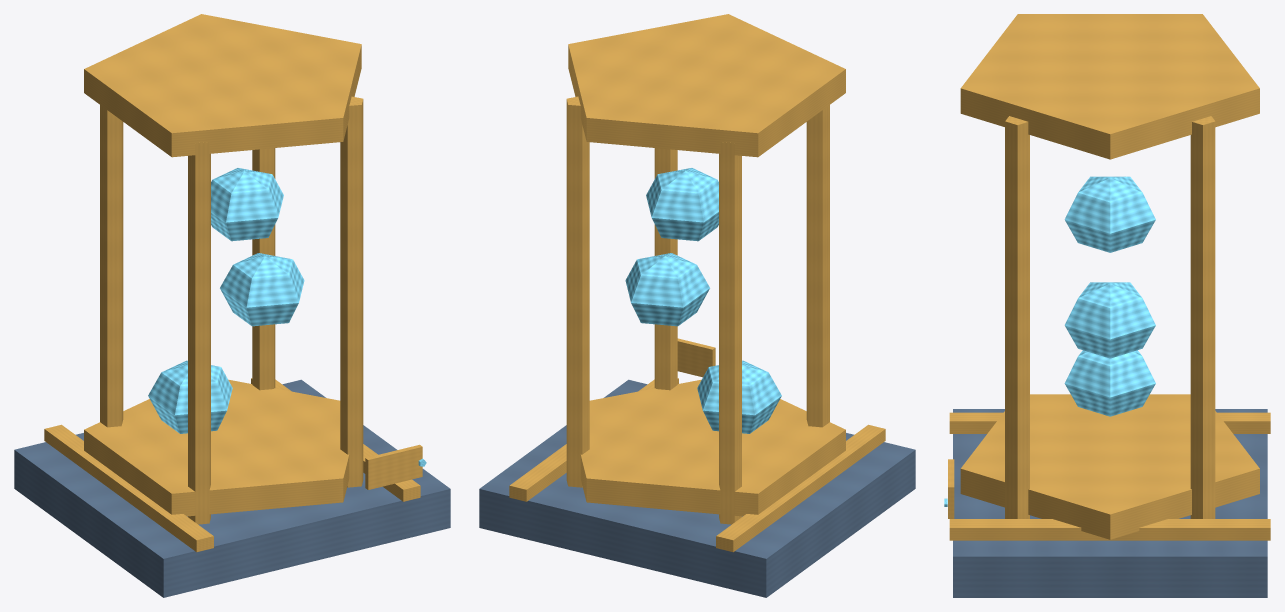
Rendered from atlas100-s051-a01.lod1.glb.
3 renders of one model, left to right at view 1: azimuth 30°, elevation 25°; view 2: azimuth 150°, elevation 25°; view 3: azimuth 270°, elevation 25°, orthographic. The views are drawn at different scales.
Parts seen in each view (by area): view 1: atlas100-s051-a01:part-004, atlas100-s051-a01:part-000, atlas100-s051-a01:part-003, atlas100-s051-a01:part-005, atlas100-s051-a01:part-007, atlas100-s051-a01:part-009, atlas100-s051-a01:part-014, atlas100-s051-a01:part-015, atlas100-s051-a01:part-001, atlas100-s051-a01:part-013, atlas100-s051-a01:part-011, atlas100-s051-a01:part-016 (+1 smaller); view 2: atlas100-s051-a01:part-004, atlas100-s051-a01:part-000, atlas100-s051-a01:part-003, atlas100-s051-a01:part-011, atlas100-s051-a01:part-009, atlas100-s051-a01:part-007, atlas100-s051-a01:part-014, atlas100-s051-a01:part-015, atlas100-s051-a01:part-001, atlas100-s051-a01:part-013, atlas100-s051-a01:part-005, atlas100-s051-a01:part-002 (+1 smaller); view 3: atlas100-s051-a01:part-004, atlas100-s051-a01:part-003, atlas100-s051-a01:part-000, atlas100-s051-a01:part-011, atlas100-s051-a01:part-005, atlas100-s051-a01:part-002, atlas100-s051-a01:part-015, atlas100-s051-a01:part-014, atlas100-s051-a01:part-013, atlas100-s051-a01:part-001.
Part boxes in pixels (left/top/right/bottom): atlas100-s051-a01:part-004: left=84, top=14, right=361, bottom=157; atlas100-s051-a01:part-000: left=14, top=379, right=450, bottom=597; atlas100-s051-a01:part-003: left=84, top=379, right=349, bottom=516; atlas100-s051-a01:part-005: left=340, top=96, right=363, bottom=487; atlas100-s051-a01:part-007: left=188, top=142, right=210, bottom=524; atlas100-s051-a01:part-009: left=100, top=105, right=123, bottom=427; atlas100-s051-a01:part-014: left=220, top=253, right=304, bottom=326; atlas100-s051-a01:part-015: left=211, top=168, right=283, bottom=241; atlas100-s051-a01:part-001: left=44, top=424, right=213, bottom=552; atlas100-s051-a01:part-013: left=148, top=360, right=232, bottom=433; atlas100-s051-a01:part-011: left=252, top=148, right=275, bottom=390; atlas100-s051-a01:part-016: left=365, top=444, right=422, bottom=489; atlas100-s051-a01:part-004: left=568, top=14, right=845, bottom=157; atlas100-s051-a01:part-000: left=479, top=379, right=915, bottom=597; atlas100-s051-a01:part-003: left=580, top=379, right=845, bottom=516; atlas100-s051-a01:part-011: left=566, top=96, right=589, bottom=487; atlas100-s051-a01:part-009: left=719, top=142, right=741, bottom=524; atlas100-s051-a01:part-007: left=806, top=105, right=829, bottom=427; atlas100-s051-a01:part-014: left=625, top=253, right=709, bottom=326; atlas100-s051-a01:part-015: left=646, top=168, right=718, bottom=241; atlas100-s051-a01:part-001: left=716, top=424, right=885, bottom=552; atlas100-s051-a01:part-013: left=697, top=360, right=781, bottom=433; atlas100-s051-a01:part-005: left=654, top=148, right=677, bottom=390; atlas100-s051-a01:part-002: left=509, top=378, right=678, bottom=501; atlas100-s051-a01:part-004: left=960, top=14, right=1259, bottom=159; atlas100-s051-a01:part-003: left=960, top=394, right=1259, bottom=539; atlas100-s051-a01:part-000: left=953, top=409, right=1267, bottom=597; atlas100-s051-a01:part-011: left=1190, top=116, right=1215, bottom=518; atlas100-s051-a01:part-005: left=1005, top=116, right=1029, bottom=518; atlas100-s051-a01:part-002: left=949, top=519, right=1270, bottom=540; atlas100-s051-a01:part-015: left=1064, top=176, right=1155, bottom=252; atlas100-s051-a01:part-014: left=1064, top=282, right=1155, bottom=358; atlas100-s051-a01:part-013: left=1064, top=350, right=1155, bottom=416; atlas100-s051-a01:part-001: left=949, top=412, right=1270, bottom=433.
Size of the model in its own units: 2 by 2.88 by 1.87.
Materials: 3 (3 with a texture image).
